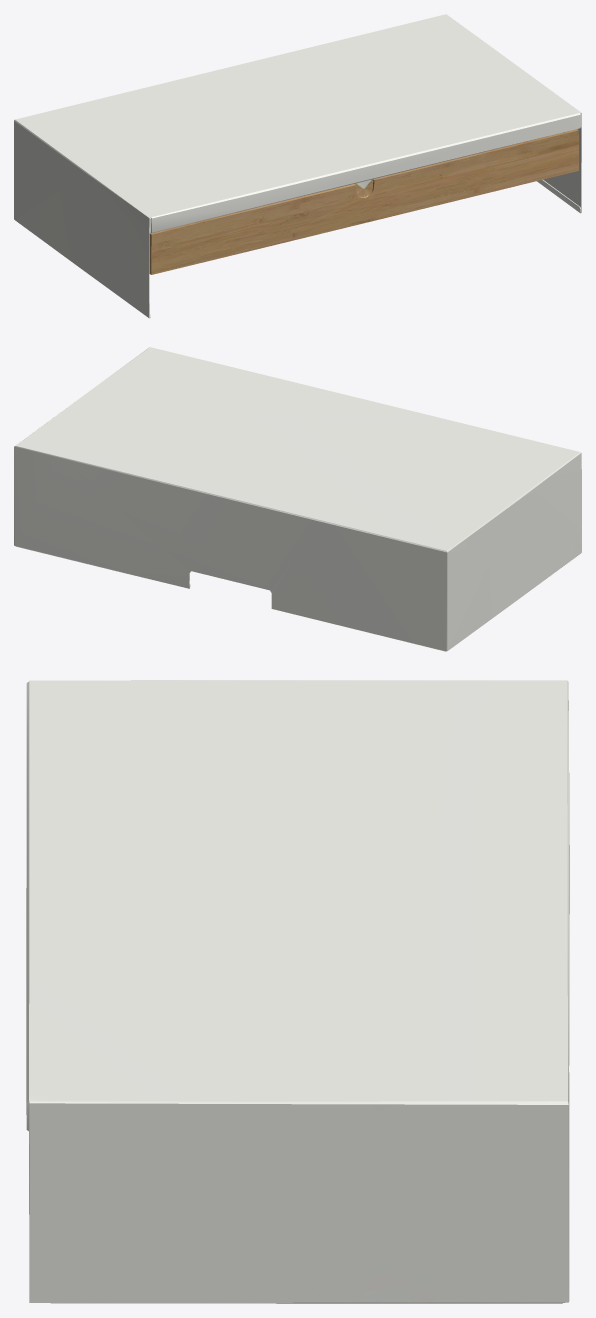
Rendered from 41 - ELLOVEN - 附抽屜螢幕架, 白色 IKEA 線上購物.glb.
The picture shows the model from 3 angles, top to bottom: view 1: azimuth 30°, elevation 25°; view 2: azimuth 150°, elevation 25°; view 3: azimuth 270°, elevation 25°; orthographic projection. The views are drawn at different scales.
Visible parts, largest first — view 1: ProcessedMeshNode; view 2: ProcessedMeshNode; view 3: ProcessedMeshNode.
Boxes of the visible parts, x1,y1,x2,y2 form: ProcessedMeshNode: (14,14,581,318); ProcessedMeshNode: (14,347,581,651); ProcessedMeshNode: (26,680,569,1303).
Bounding box in the file's own units: 0.4733 × 0.1057 × 0.257.
Materials: 1 (1 with a texture image).
